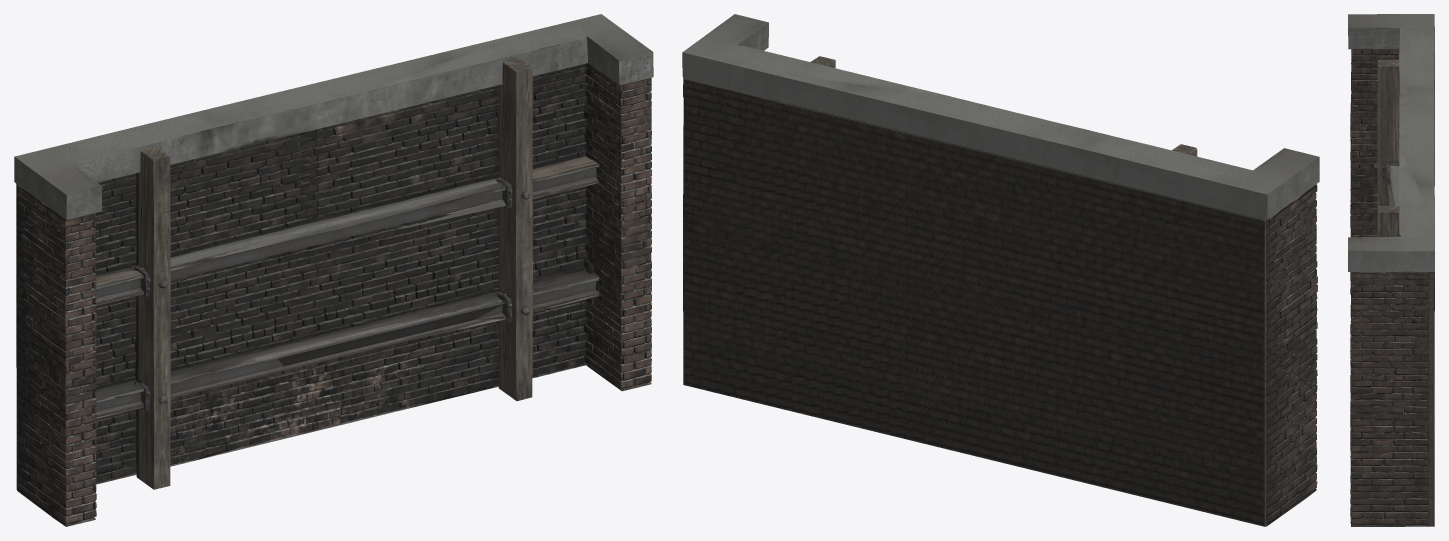
Rendered from shaft_collar_guides.glb.
3 views of the same model, side by side, from view 1: azimuth 30°, elevation 25°; view 2: azimuth 150°, elevation 25°; view 3: azimuth 270°, elevation 25° (orthographic). The views are drawn at different scales.
Bounding box in the file's own units: 1.9 × 1.03 × 0.2939.
1 material, 1 textured.
